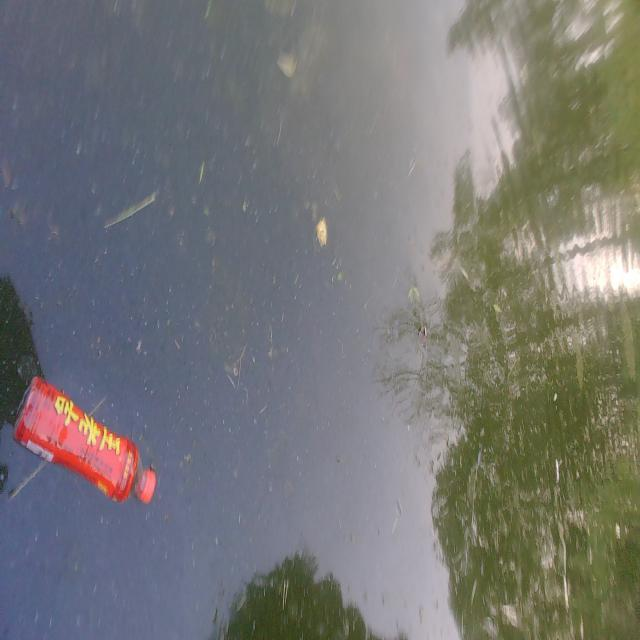bottle: (3, 353, 176, 525)
